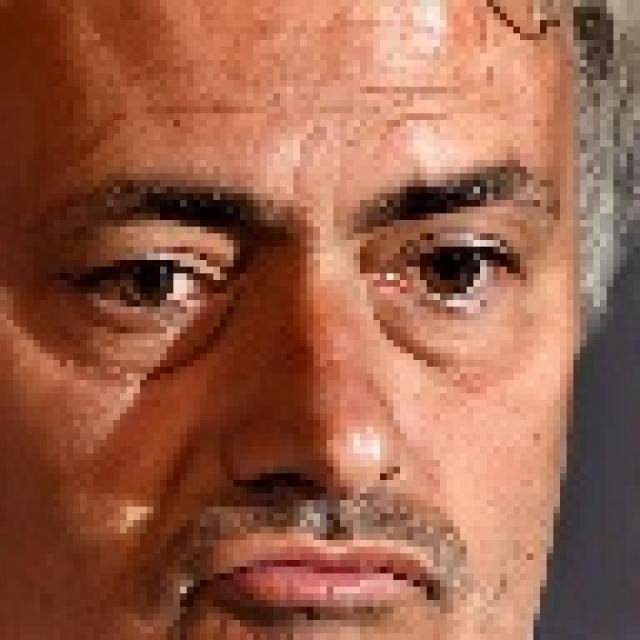angry: (4, 6, 581, 640)
